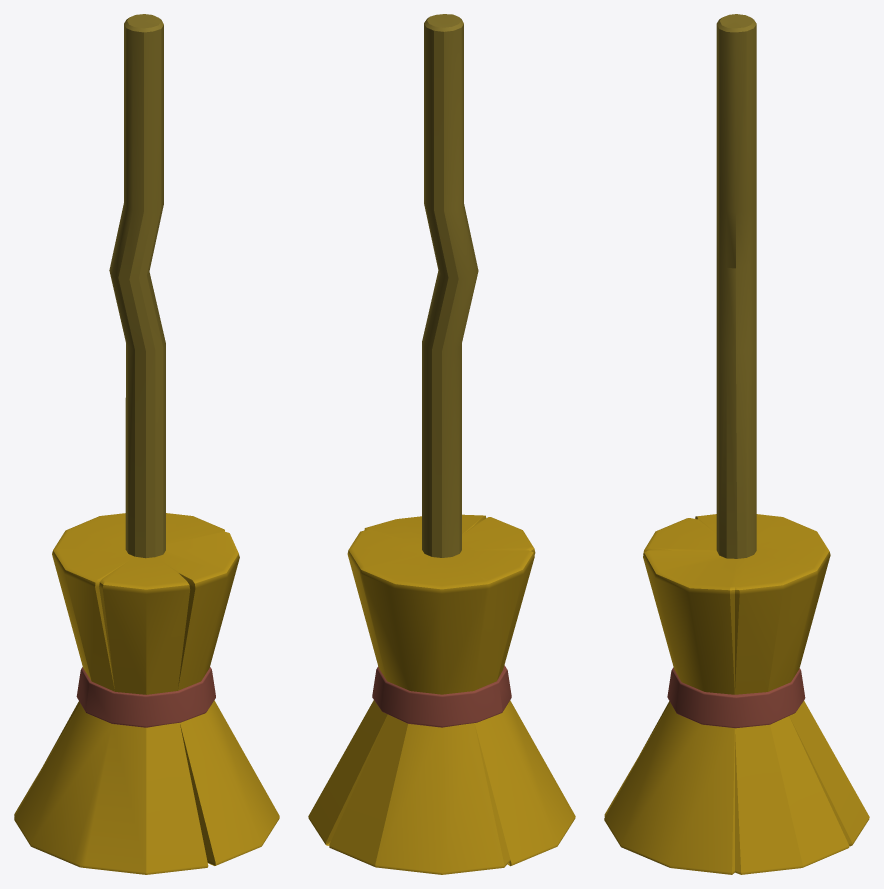
File: SM_Broom_2.fbx
3 views of the same model, side by side, from view 1: azimuth 30°, elevation 25°; view 2: azimuth 150°, elevation 25°; view 3: azimuth 270°, elevation 25° (orthographic).
Visible parts, largest first — view 1: Broom_1; view 2: Broom_1; view 3: Broom_1.
Part boxes in pixels (bbox=[...]): Broom_1: bbox=[14, 14, 279, 874]; Broom_1: bbox=[308, 14, 575, 874]; Broom_1: bbox=[604, 14, 869, 874].
Size of the model in its own units: 0.4161 by 1.38 by 0.4159.
